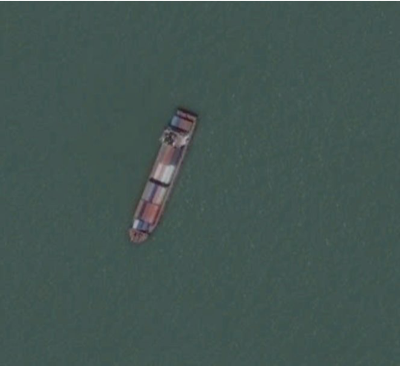boat: (128, 105, 200, 246)
